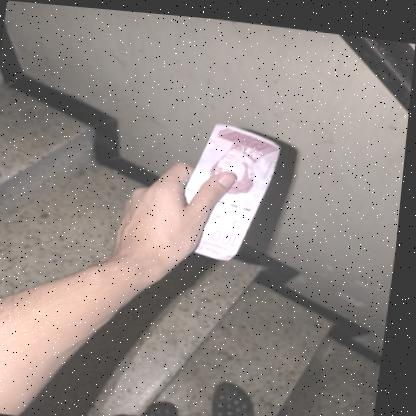one_hundred-front-vef: (178, 115, 286, 261)
